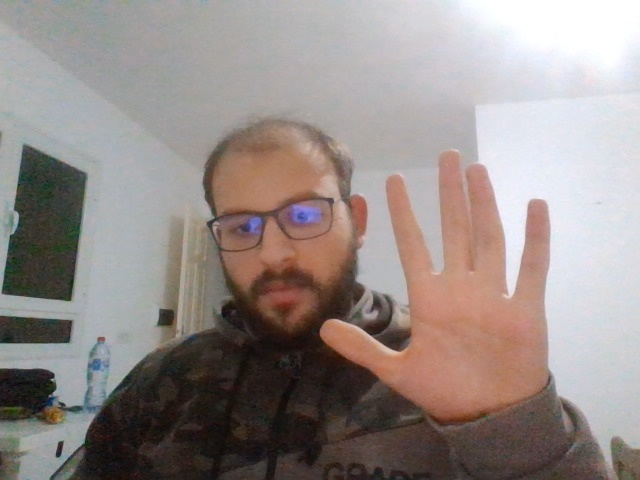Hello: (328, 154, 552, 407)
